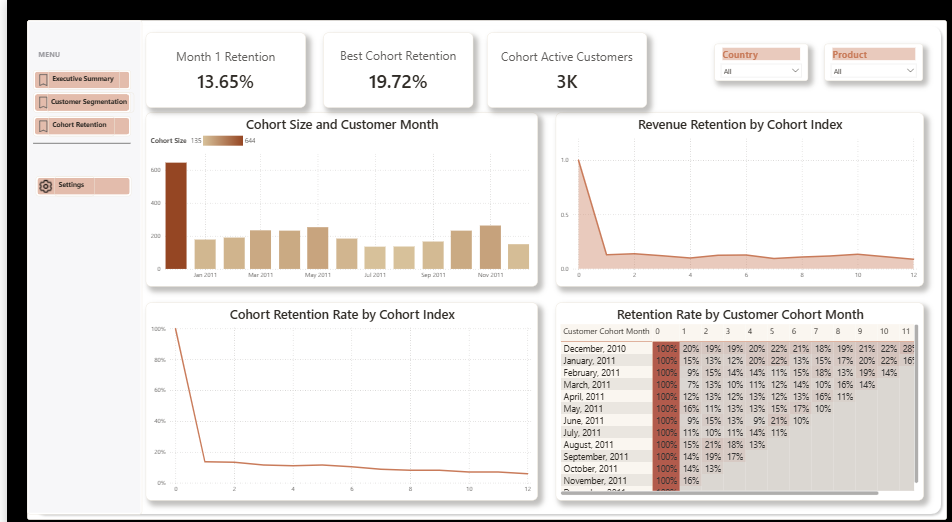

The dashboard page shown, as its layout file describes it:
{"tool":"powerbi","page":{"name":"Cohort Retention","canvas":[1920,1080],"ordinal":2},"visuals":[{"type":"shape","title":"bg_card","box":[40,40,1840,1000],"z":0},{"type":"shape","box":[40,40,230,988.9],"z":1000},{"type":"actionButton","title":"overview button","box":[52.5,140,195,40],"z":2000},{"type":"textbox","box":[57.8,92.2,58.9,33.3],"z":3000},{"type":"actionButton","box":[52.5,185.8,195,40],"z":4000},{"type":"actionButton","box":[52.5,231.7,195,40],"z":5000},{"type":"actionButton","box":[57.3,353.6,190.9,40],"z":6000},{"type":"shape","box":[53.6,271.8,194.5,28.2],"z":7000},{"type":"textbox","box":[80,185.8,174,40],"z":8000},{"type":"textbox","box":[94.4,353.3,80,40],"z":9000},{"type":"textbox","box":[82.5,231.7,132.5,40],"z":10000},{"type":"textbox","box":[82.5,140,143.3,40],"z":11000},{"type":"slicer","fields":{"Values":["ecommerce_cleaned.Country"]},"box":[1416,88,187.1,74.3],"z":12000},{"type":"slicer","fields":{"Values":["ecommerce_cleaned.Description"]},"box":[1636,88,197.1,74.3],"z":13000},{"type":"pivotTable","title":"Retention Rate by Customer Cohort Month","fields":{"Values":["ecommerce_cleaned.Cohort Retention Rate"],"Columns":["ecommerce_cleaned.Cohort Index"],"Rows":["ecommerce_cleaned.Customer Cohort Month"]},"box":[1098,606,736,396],"z":14000},{"type":"clusteredColumnChart","title":"Cohort Size and Customer Month","fields":{"Y":["ecommerce_cleaned.Cohort Size"],"Category":["ecommerce_cleaned.Customer Cohort Month"]},"box":[278,226,784,348],"z":15000},{"type":"lineChart","fields":{"Category":["ecommerce_cleaned.Cohort Index"],"Y":["ecommerce_cleaned.Cohort Retention Rate"]},"box":[278,606,784,396],"z":16000},{"type":"areaChart","title":"Revenue Retention by Cohort Index","fields":{"Category":["ecommerce_cleaned.Cohort Index"],"Y":["ecommerce_cleaned.Revenue Retention %"]},"box":[1098,226,736,348],"z":17000},{"type":"cardVisual","fields":{"Data":["ecommerce_cleaned.Month 1 Retention"]},"box":[278.6,64.3,320,150],"z":18000},{"type":"cardVisual","fields":{"Data":["ecommerce_cleaned.Best Cohort Retention"]},"box":[631.4,64.3,300,150],"z":19000},{"type":"cardVisual","fields":{"Data":["ecommerce_cleaned.Cohort Active Customers"]},"box":[960,64.3,320,150],"z":20000}]}

Visuals, with their boxes in screenshot pixels (x1, y1, x2, y2), scaled from the page's 1920x1080 canvas onto the 952x522 screenshot:
"bg_card" shape: bbox=[20, 19, 932, 503]
shape: bbox=[20, 19, 134, 497]
"overview button" actionButton: bbox=[26, 68, 123, 87]
textbox: bbox=[29, 45, 58, 61]
actionButton: bbox=[26, 90, 123, 109]
actionButton: bbox=[26, 112, 123, 131]
actionButton: bbox=[28, 171, 123, 190]
shape: bbox=[27, 131, 123, 145]
textbox: bbox=[40, 90, 126, 109]
textbox: bbox=[47, 171, 86, 190]
textbox: bbox=[41, 112, 107, 131]
textbox: bbox=[41, 68, 112, 87]
slicer - ecommerce_cleaned.Country: bbox=[702, 43, 795, 78]
slicer - ecommerce_cleaned.Description: bbox=[811, 43, 909, 78]
"Retention Rate by Customer Cohort Month" pivotTable: bbox=[544, 293, 909, 484]
"Cohort Size and Customer Month" clusteredColumnChart: bbox=[138, 109, 527, 277]
lineChart - ecommerce_cleaned.Cohort Index x ecommerce_cleaned.Cohort Retention Rate: bbox=[138, 293, 527, 484]
"Revenue Retention by Cohort Index" areaChart: bbox=[544, 109, 909, 277]
cardVisual - ecommerce_cleaned.Month 1 Retention: bbox=[138, 31, 297, 104]
cardVisual - ecommerce_cleaned.Best Cohort Retention: bbox=[313, 31, 462, 104]
cardVisual - ecommerce_cleaned.Cohort Active Customers: bbox=[476, 31, 635, 104]
